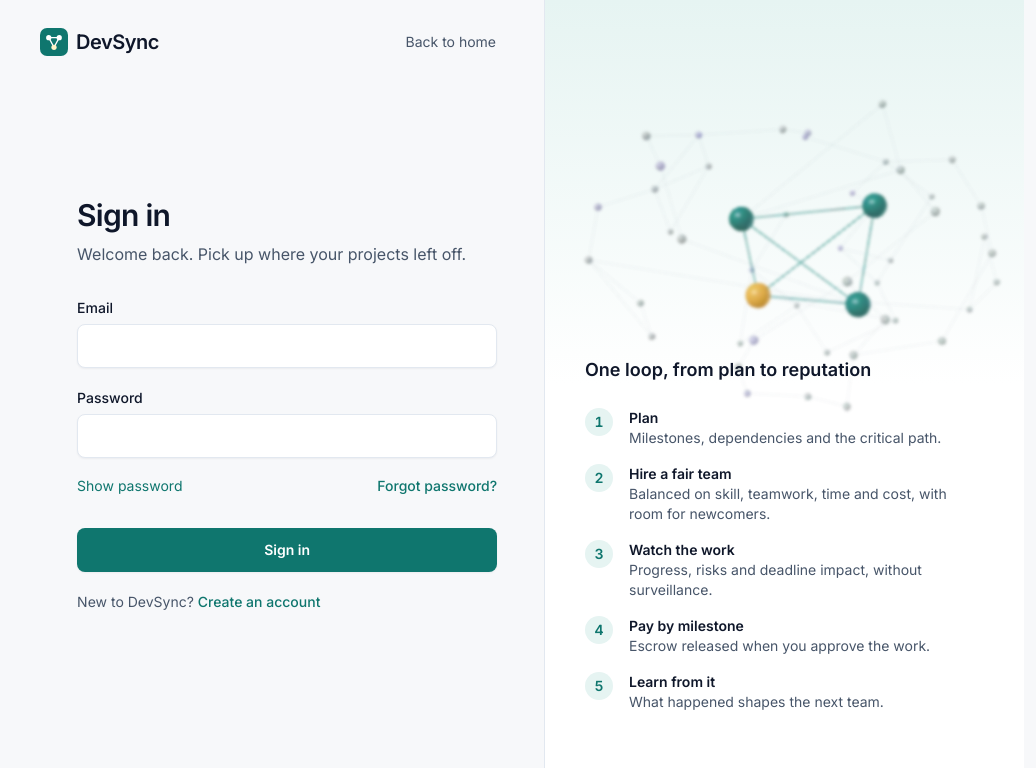
Test: LoginPage › shows the lockout message with the wait time
Type "rahim@example.com" into the field labelled "Email" at (287, 346), box [77,324,497,368]
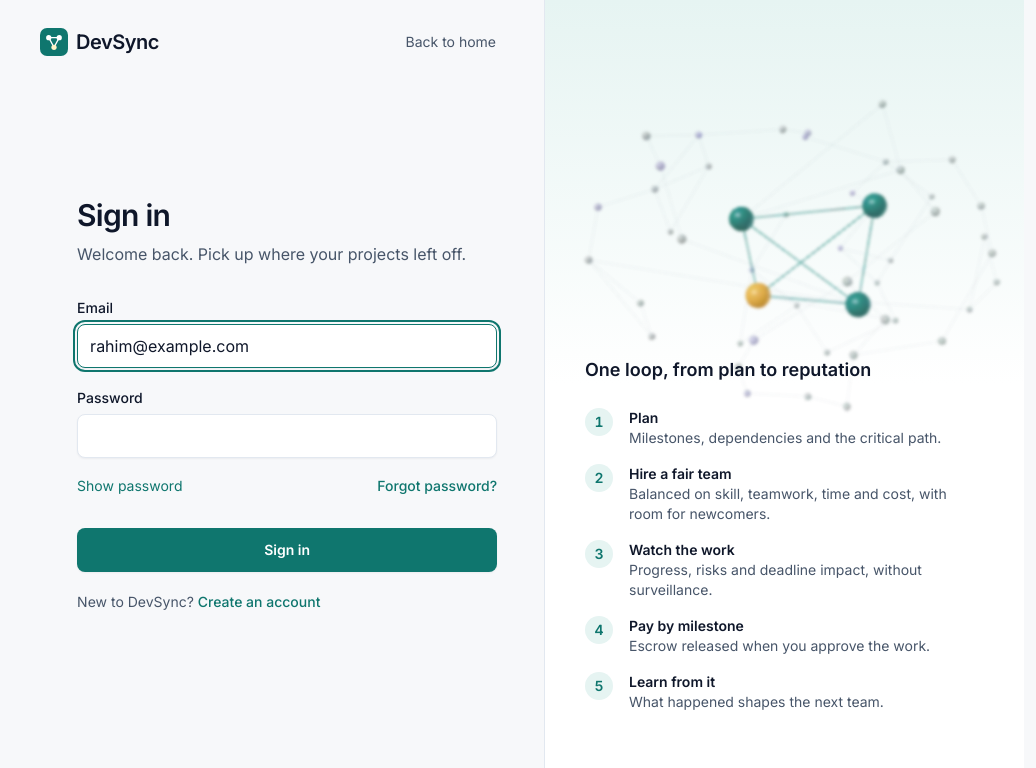
Type "a good password 1" into the password field labelled "Password" at (287, 436), box [77,414,497,458]
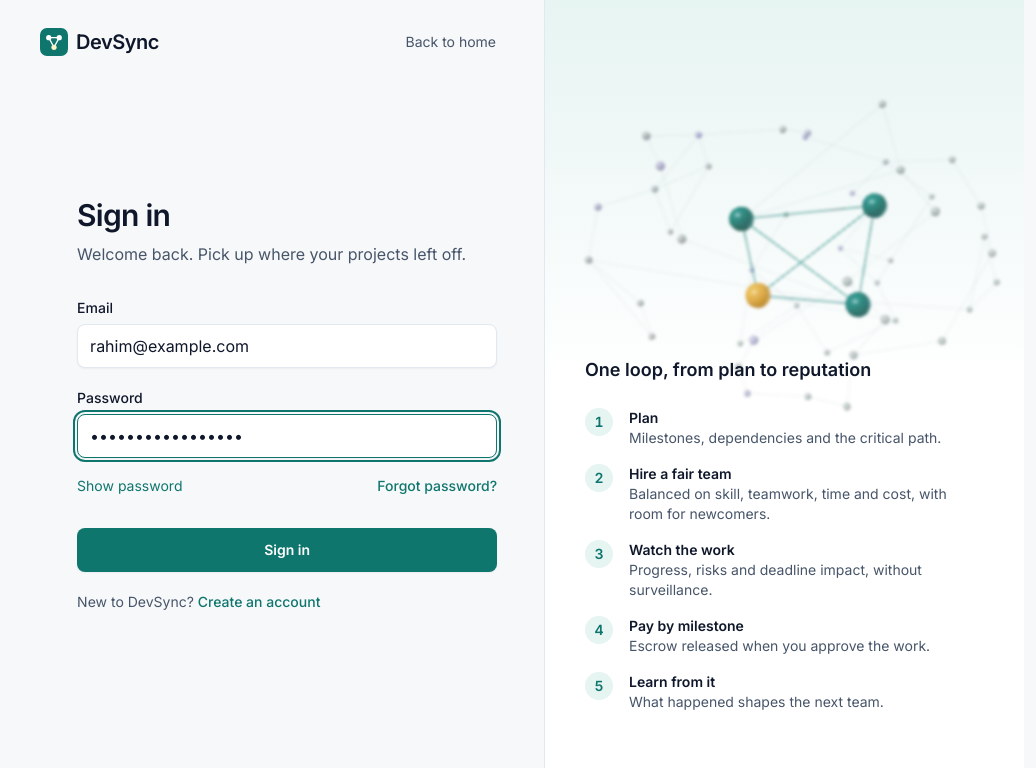
Click the button "Sign in" at (287, 550), box [77,528,497,572]
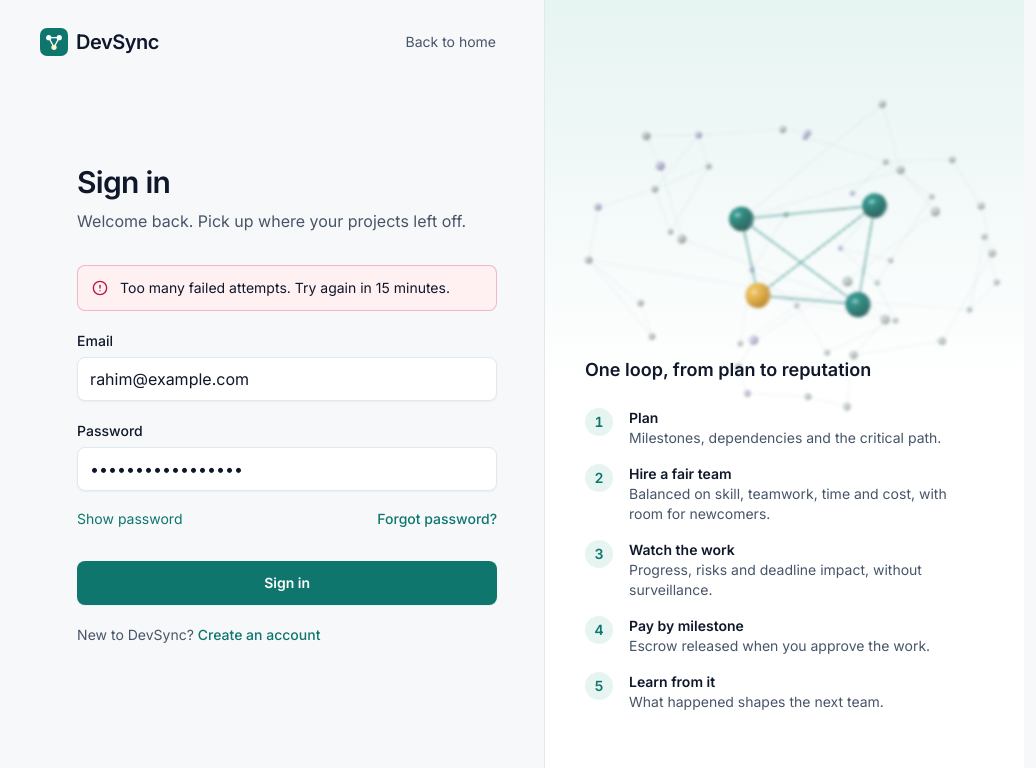
Expected: the message shows "15 minutes", [120,279,450,296]
